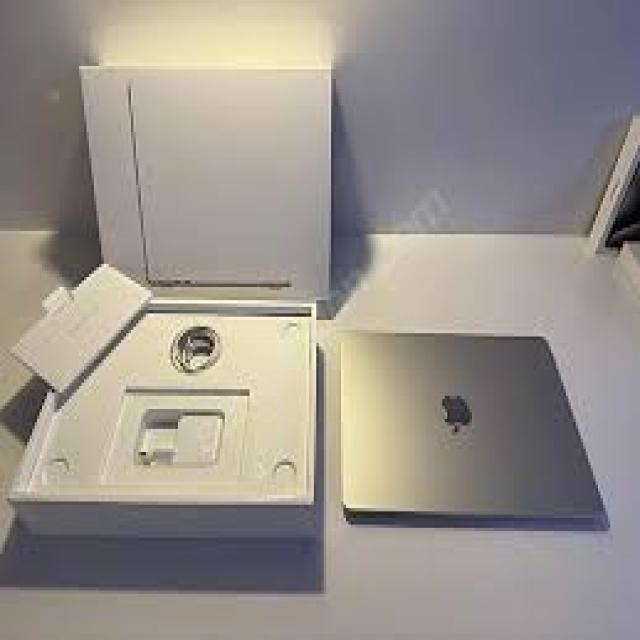laptop: (334, 330, 610, 531)
